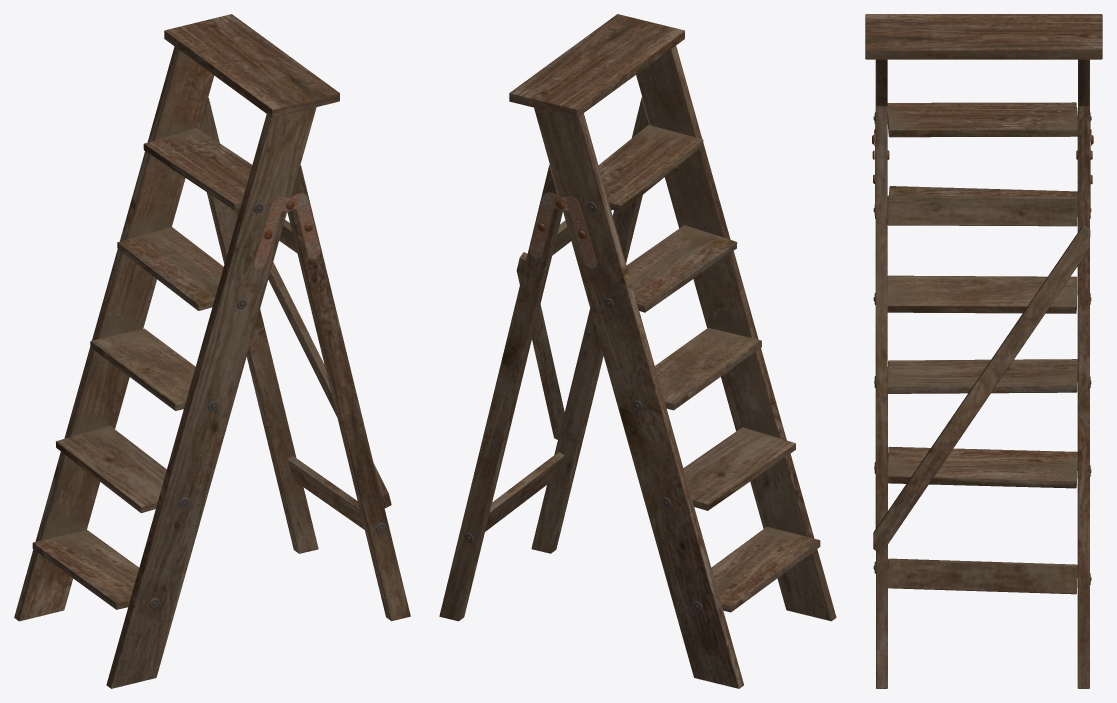
File: wooden_ladder_02.glb
3 views of the same model, side by side, from view 1: azimuth 30°, elevation 25°; view 2: azimuth 150°, elevation 25°; view 3: azimuth 270°, elevation 25° (orthographic). The views are drawn at different scales.
Visible parts, largest first — view 1: wooden_ladder_02; view 2: wooden_ladder_02; view 3: wooden_ladder_02.
Part boxes in pixels (x1,y1,x2,y2): wooden_ladder_02: [14, 14, 410, 688]; wooden_ladder_02: [439, 14, 836, 688]; wooden_ladder_02: [865, 14, 1102, 688].
Size of the model in its own units: 0.9895 by 1.72 by 0.6181.
1 material, 1 textured.
